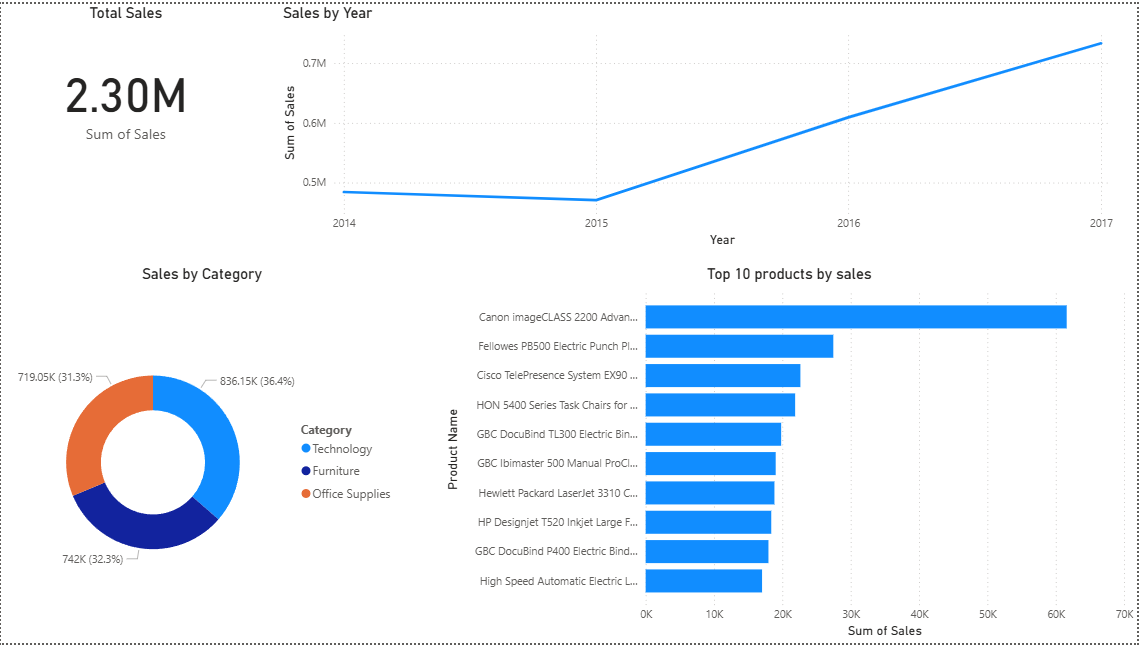

Layout of this report page (visuals, bound fields, positions):
{"tool":"powerbi","page":{"name":"Sales and revenue'","canvas":[1280,720],"ordinal":0},"visuals":[{"type":"lineChart","title":" Sales by Year","fields":{"Category":["Sample - Superstore.Order Date.Variation.Date Hierarchy.Year"],"Y":["Sum(Sample - Superstore.Sales)"]},"box":[312.7,0,945.1,278.9],"z":0},{"type":"donutChart","title":"Sales by Category","fields":{"Category":["Sample - Superstore.Category"],"Y":["Sum(Sample - Superstore.Sales)"]},"box":[0,295,452.8,425.4],"z":1000},{"type":"clusteredBarChart","title":"Top 10 products by sales","fields":{"Category":["Sample - Superstore.Product Name"],"Y":["Sum(Sample - Superstore.Sales)"]},"box":[495.4,295,784.9,425.4],"z":2000},{"type":"card","title":"Total Sales","fields":{"Values":["Sum(Sample - Superstore.Sales)"]},"box":[0,0,281.3,194.9],"z":3000}]}

Visuals, with their boxes in screenshot pixels (x1, y1, x2, y2), scaled from the page's 1280x720 canvas onto the 1145x648 screenshot:
" Sales by Year" lineChart: region(280, 0, 1125, 251)
"Sales by Category" donutChart: region(0, 266, 405, 647)
"Top 10 products by sales" clusteredBarChart: region(443, 266, 1144, 647)
"Total Sales" card: region(0, 0, 252, 175)
